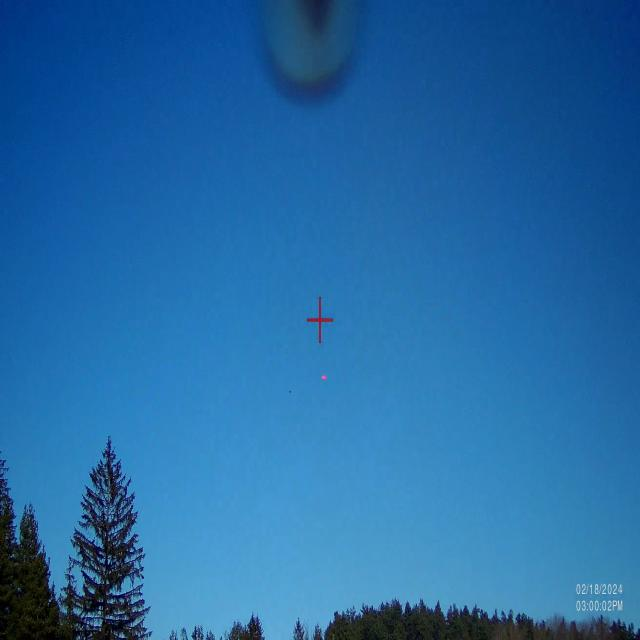entire: (318, 371, 328, 383)
